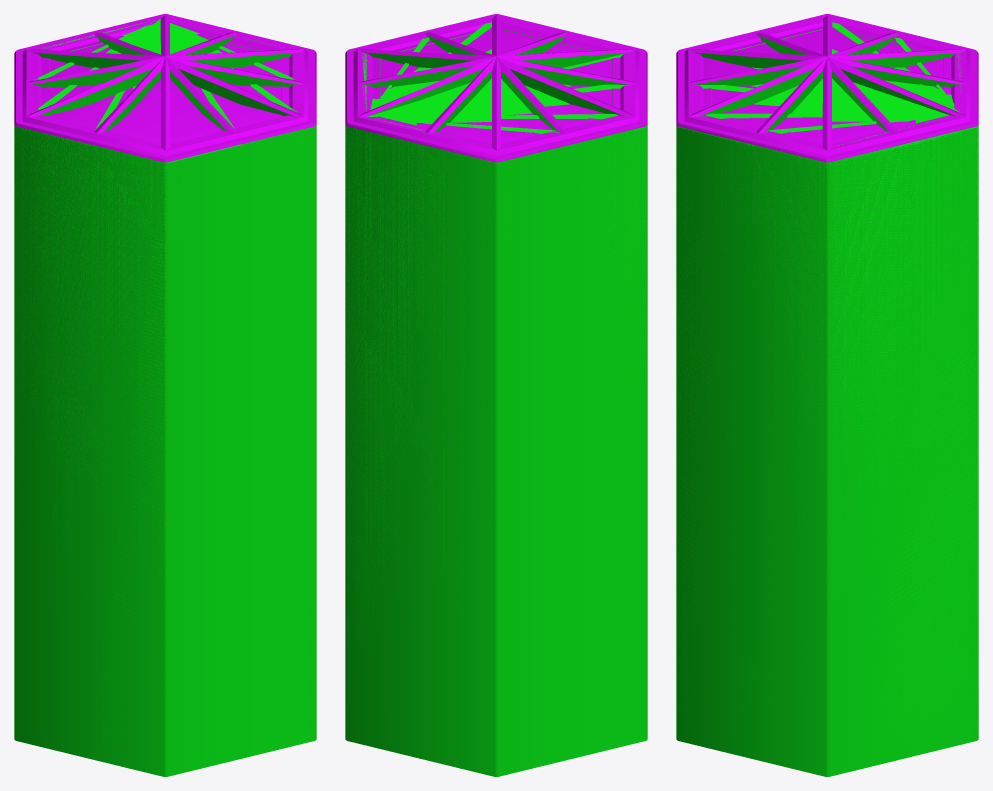
File: MultimapHexesTall.FBX
3 renders of one model, left to right at view 1: azimuth 30°, elevation 25°; view 2: azimuth 150°, elevation 25°; view 3: azimuth 270°, elevation 25°, orthographic.
Visible parts, largest first — view 1: Object110, Object128, Object132, Object119, Object130, Object126, Object134; view 2: Object110, Object119, Object128, Object130, Object134, Object132, Object126; view 3: Object110, Object130, Object119, Object128, Object134, Object126.
Boxes of the visible parts, <box> form: Object110: <box>14,33,316,776</box>; Object128: <box>14,127,316,776</box>; Object132: <box>14,128,316,776</box>; Object119: <box>14,14,316,757</box>; Object130: <box>14,37,281,776</box>; Object126: <box>26,15,304,150</box>; Object134: <box>14,14,316,762</box>; Object110: <box>345,26,646,776</box>; Object119: <box>345,14,647,770</box>; Object128: <box>345,126,646,776</box>; Object130: <box>345,29,646,776</box>; Object134: <box>345,14,647,743</box>; Object132: <box>501,128,647,775</box>; Object126: <box>357,15,635,150</box>; Object110: <box>676,26,977,771</box>; Object130: <box>677,29,978,776</box>; Object119: <box>676,14,978,775</box>; Object128: <box>676,126,978,776</box>; Object134: <box>676,14,978,766</box>; Object126: <box>688,15,966,150</box>.
Size of the model in its own units: 250 by 218 by 515.
